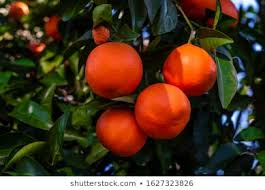orange: (86, 42, 143, 97), (134, 83, 191, 138), (160, 40, 217, 94), (91, 107, 148, 156)
